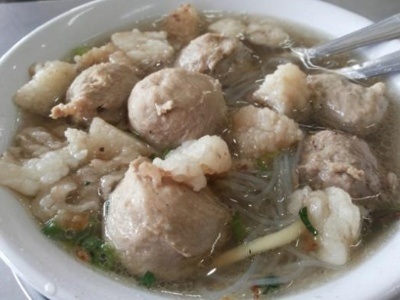bakso: (62, 26, 376, 268)
